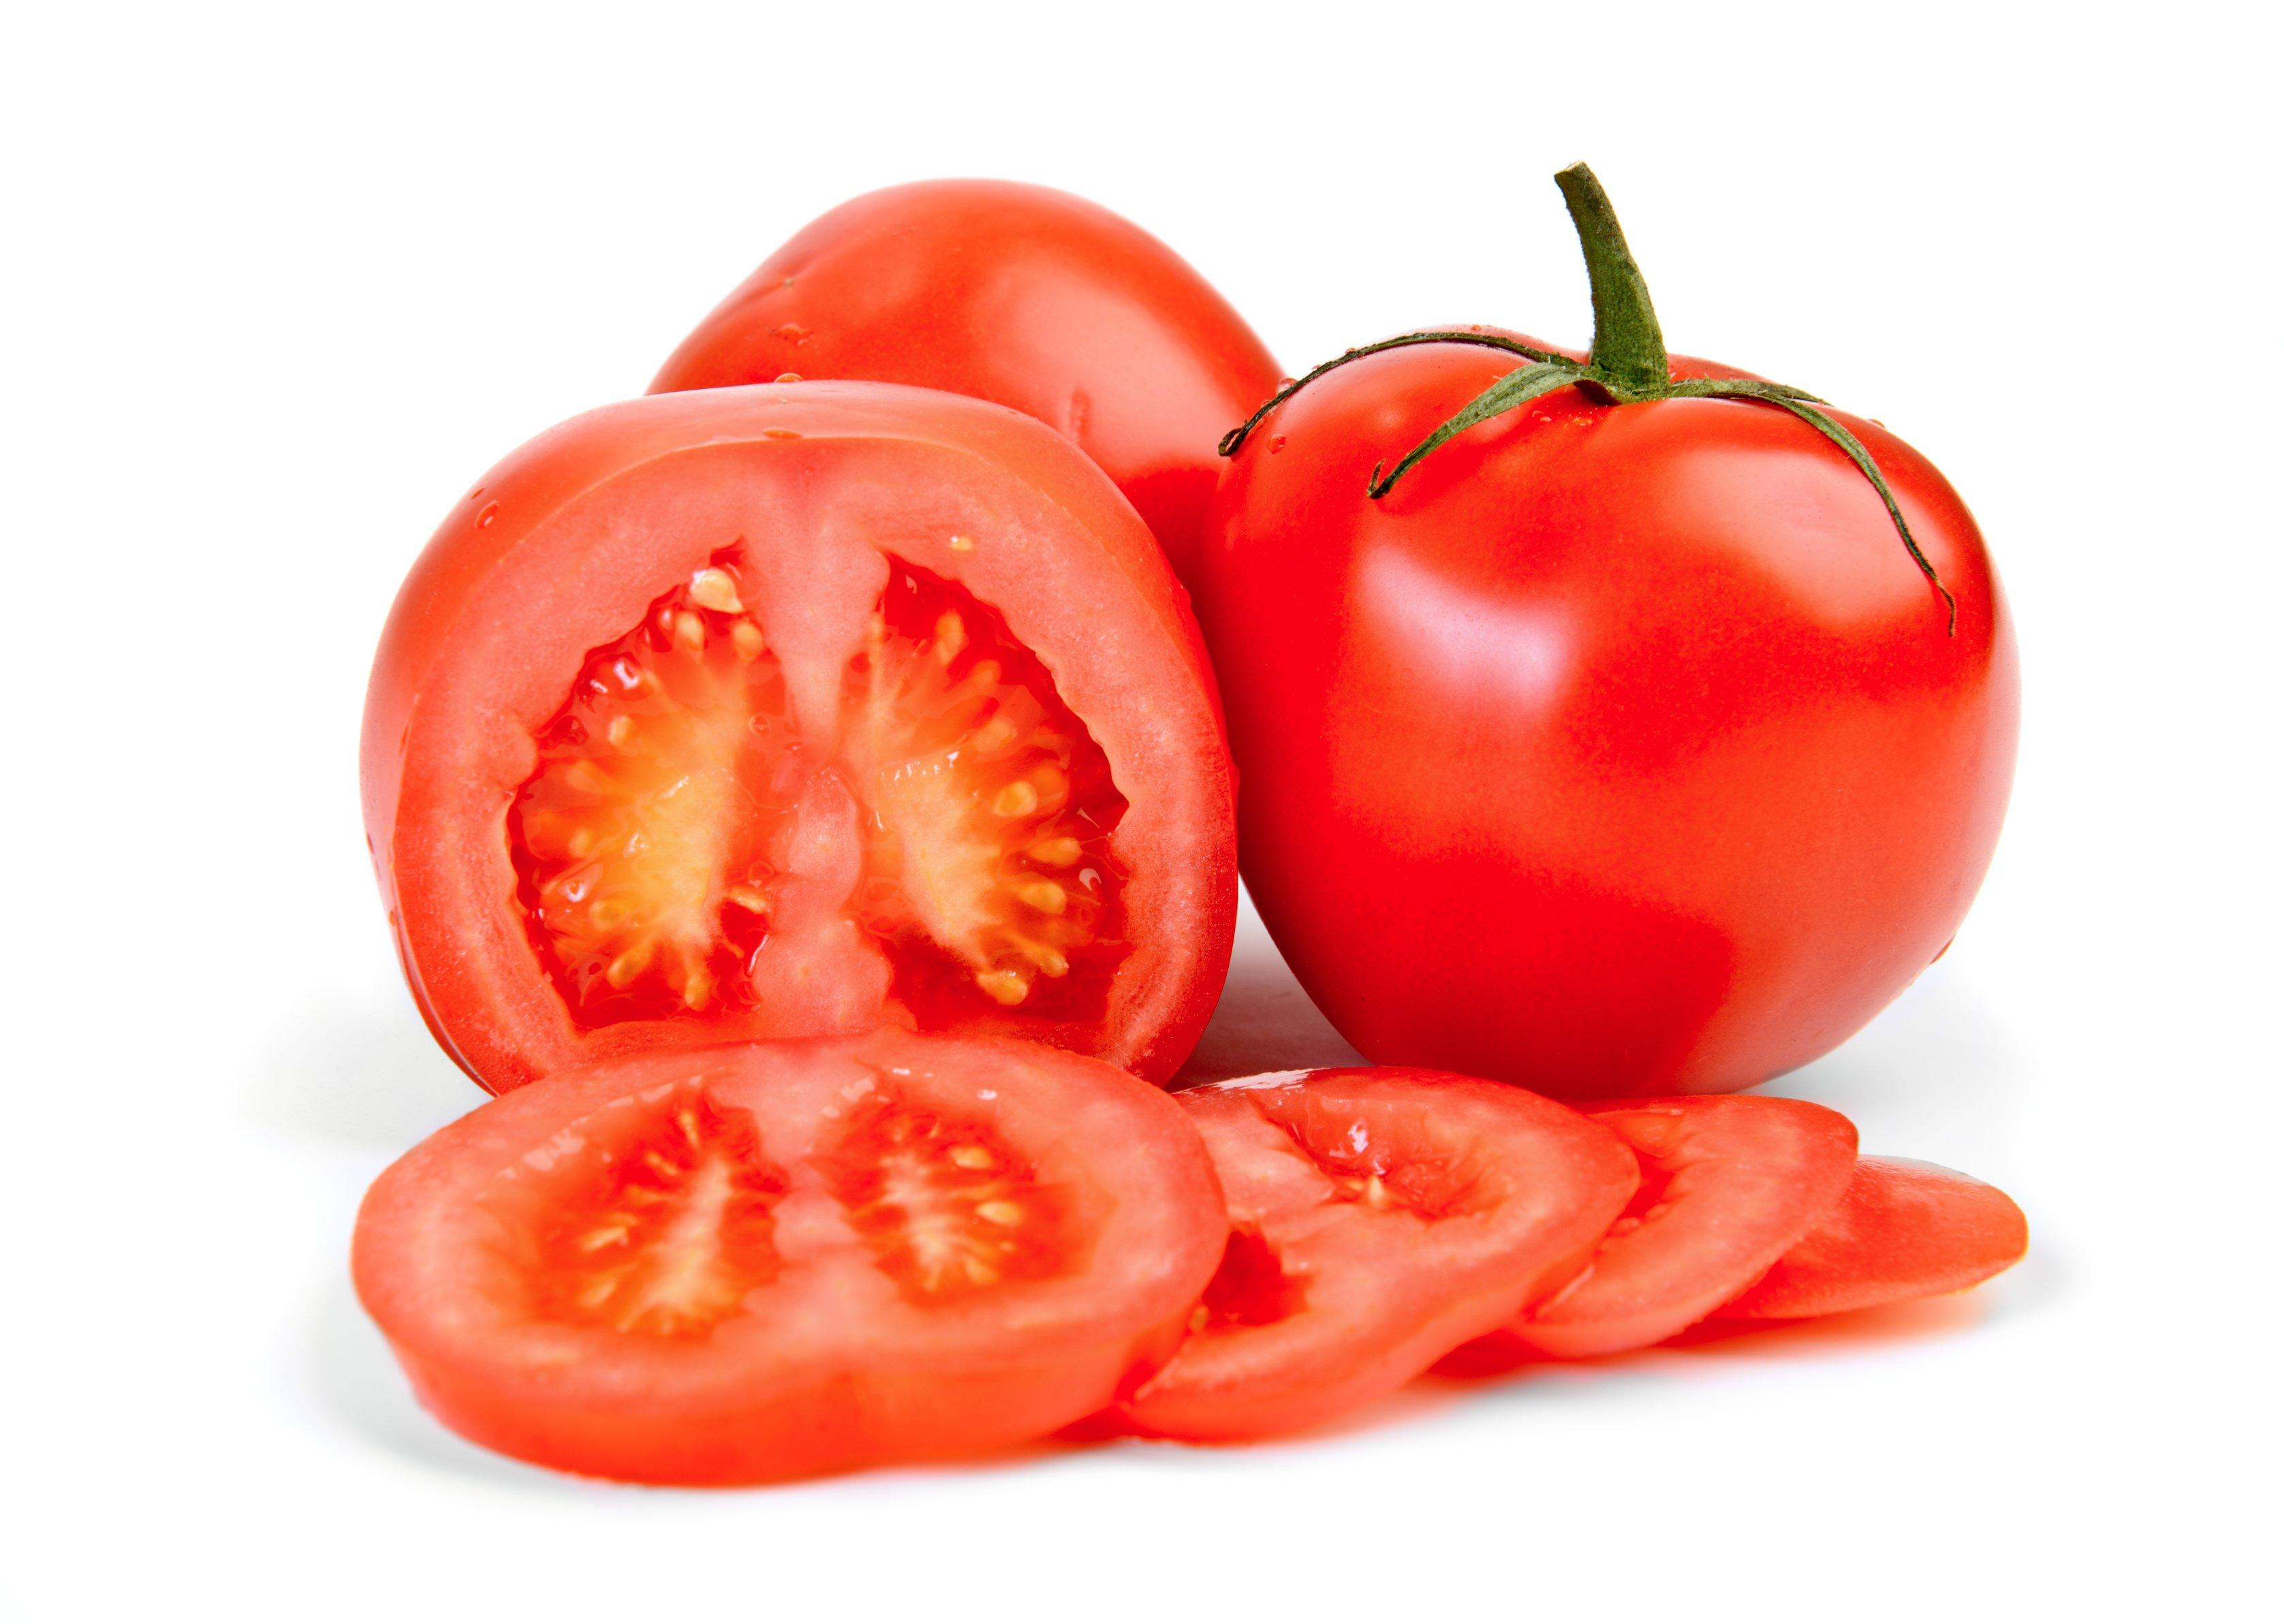tomato: (1198, 160, 2022, 1100), (357, 376, 1240, 1100), (348, 1025, 1230, 1489), (643, 174, 1290, 587), (1100, 1062, 1639, 1446), (1692, 1151, 2029, 1327)
